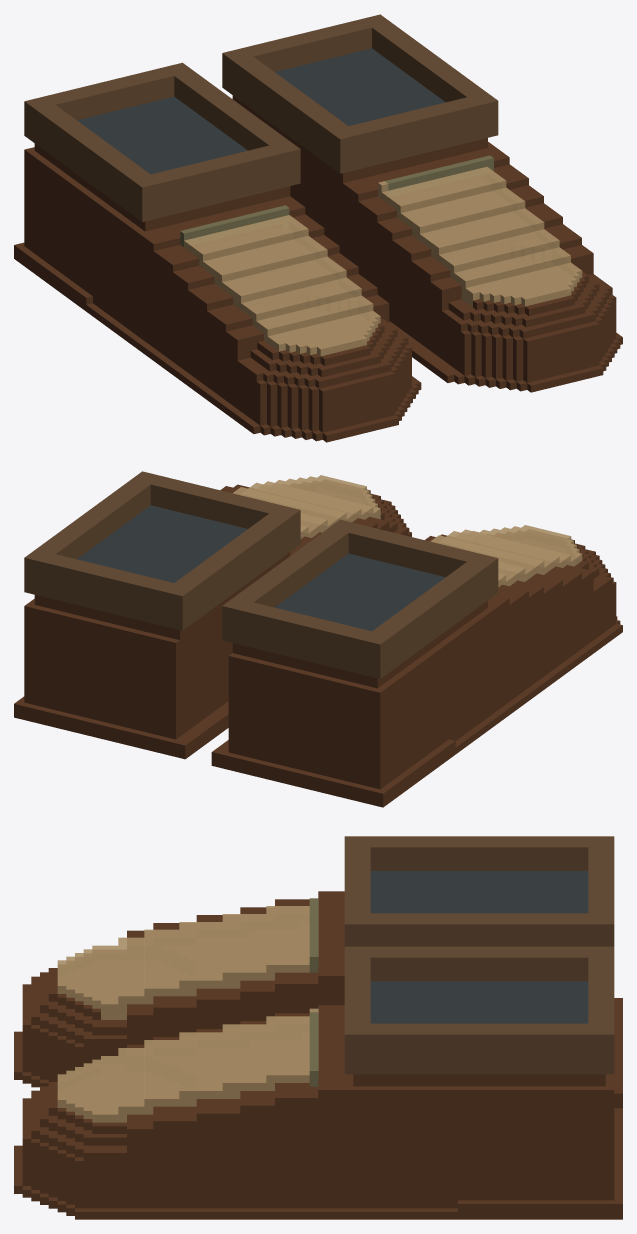
Rendered from mocassins.glb.
3 renders of one model, top to bottom at view 1: azimuth 30°, elevation 25°; view 2: azimuth 150°, elevation 25°; view 3: azimuth 270°, elevation 25°, orthographic. The views are drawn at different scales.
Visible parts, largest first — view 1: mocassins:compound; view 2: mocassins:compound; view 3: mocassins:compound.
Boxes of the visible parts, bbox=[...] form: mocassins:compound: bbox=[14, 14, 622, 442]; mocassins:compound: bbox=[14, 471, 622, 807]; mocassins:compound: bbox=[14, 836, 622, 1219].
Size of the model in its own units: 0.224 by 0.092 by 0.28.
